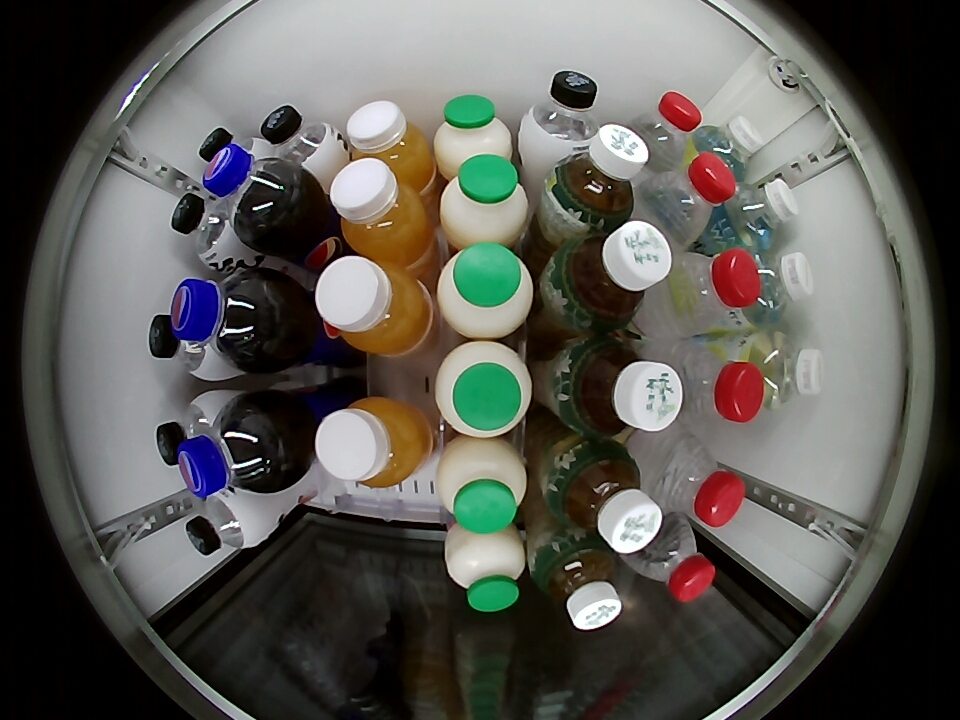baishikele-2: (169, 272, 279, 375), (175, 395, 283, 499), (201, 143, 301, 238)
liziyuan: (434, 340, 532, 438), (437, 244, 534, 340), (437, 437, 528, 531), (439, 154, 530, 247), (445, 524, 527, 612), (434, 94, 513, 175)
moliqingcha: (549, 221, 674, 332), (544, 439, 663, 554), (559, 335, 683, 437), (546, 123, 649, 228), (532, 534, 623, 631)
nongfushanquan: (647, 435, 745, 528), (660, 248, 759, 336), (643, 154, 736, 245), (670, 342, 765, 426), (627, 517, 715, 601), (629, 91, 702, 167)
qinningshui: (744, 330, 824, 410), (740, 250, 814, 325), (723, 177, 798, 249), (694, 116, 764, 181)
weic: (315, 255, 434, 355), (330, 158, 435, 266), (314, 396, 431, 487), (345, 101, 435, 190)
yuanqishui: (519, 71, 600, 157), (185, 486, 272, 556), (261, 106, 341, 176), (171, 191, 243, 268), (157, 392, 224, 465), (150, 313, 219, 379), (198, 126, 259, 164)
